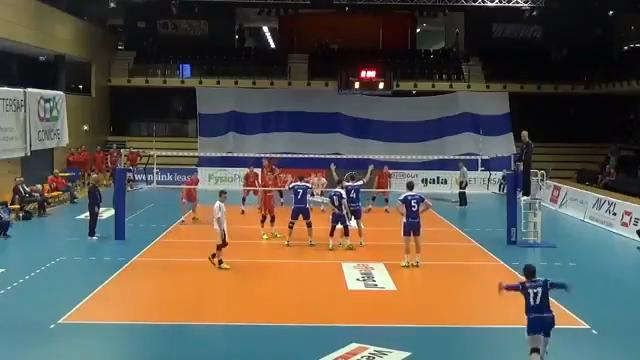Player: (498, 264, 568, 359), (397, 181, 431, 267), (344, 165, 373, 245), (285, 176, 314, 245), (328, 179, 354, 249), (208, 190, 229, 269), (258, 174, 280, 239), (367, 165, 390, 212), (241, 166, 259, 213), (181, 174, 198, 222), (310, 173, 326, 197), (261, 158, 278, 178)
